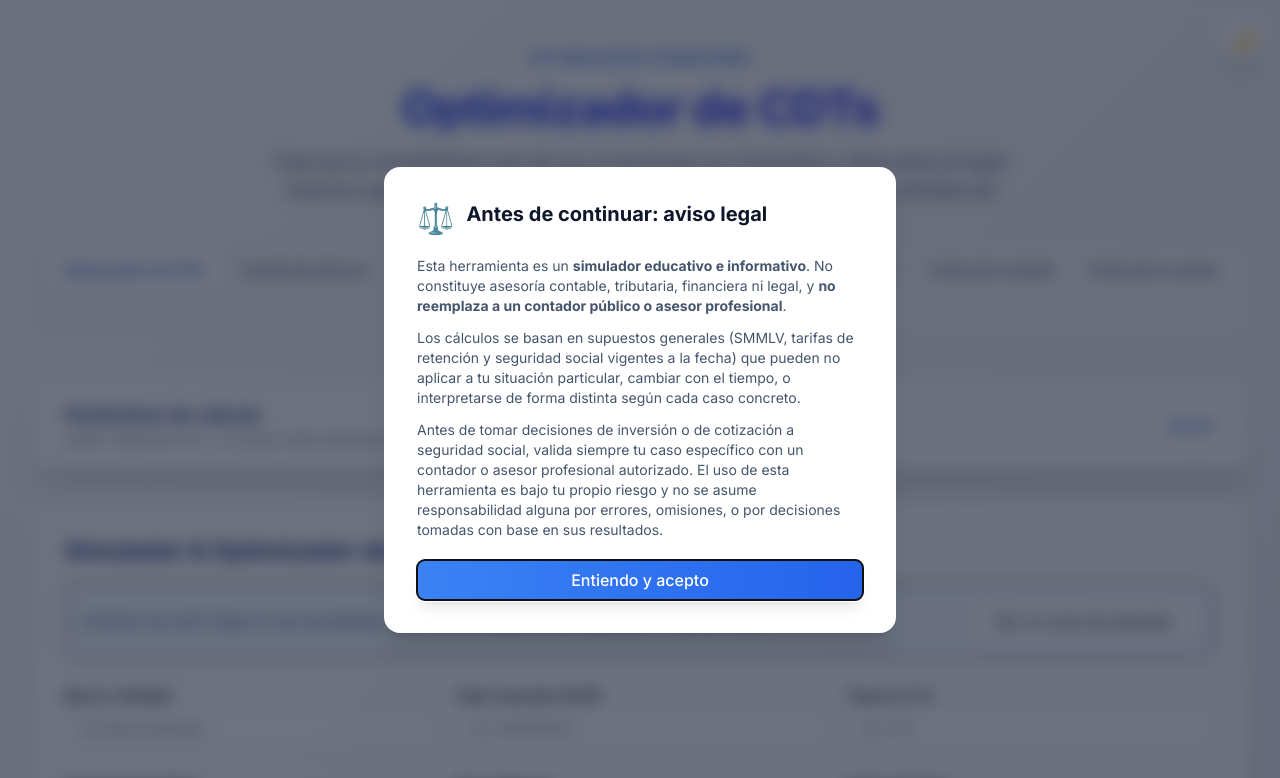
App › cambiar a la pestaña de cuenta de ahorros muestra ese comparador y oculta el simulador de CDTs
Click the button "Entiendo y acepto" at {"x": 640, "y": 580}, box [417,560,863,600]
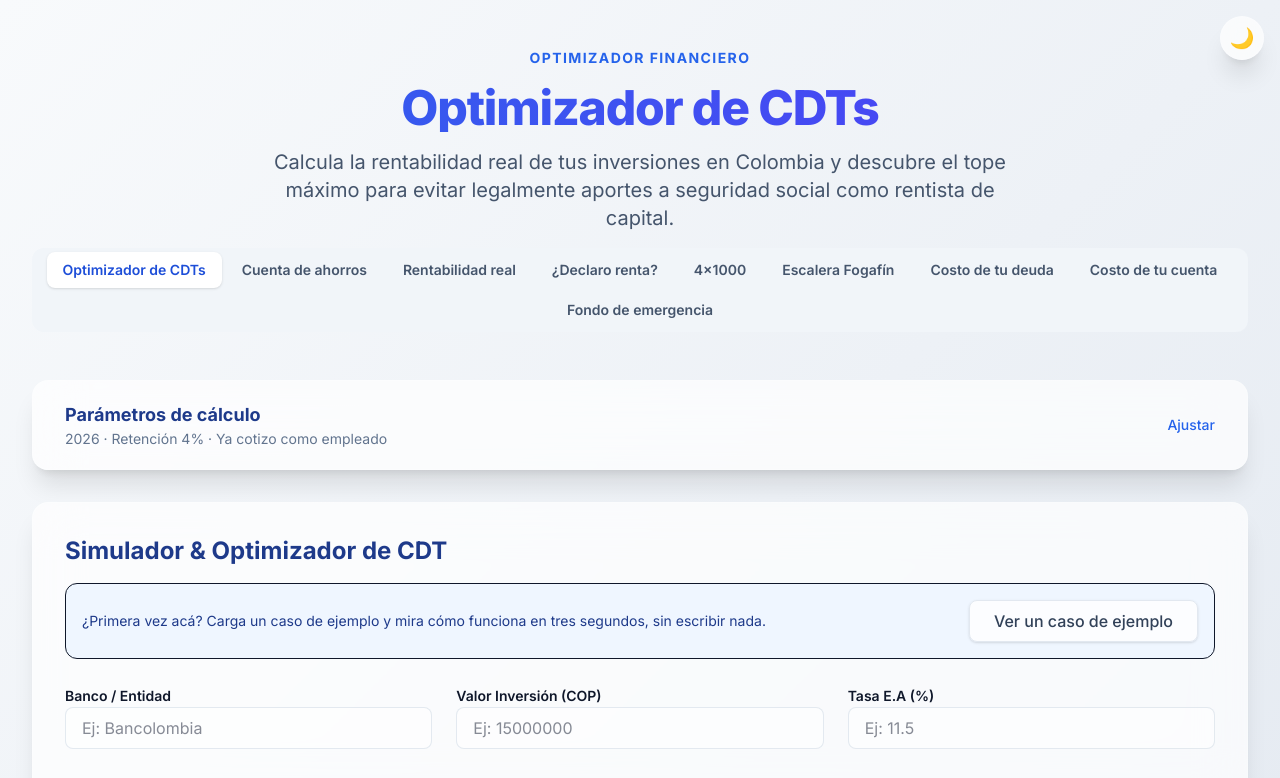
Click the link "Cuenta de ahorros" at {"x": 304, "y": 270}, box [242,261,367,278]
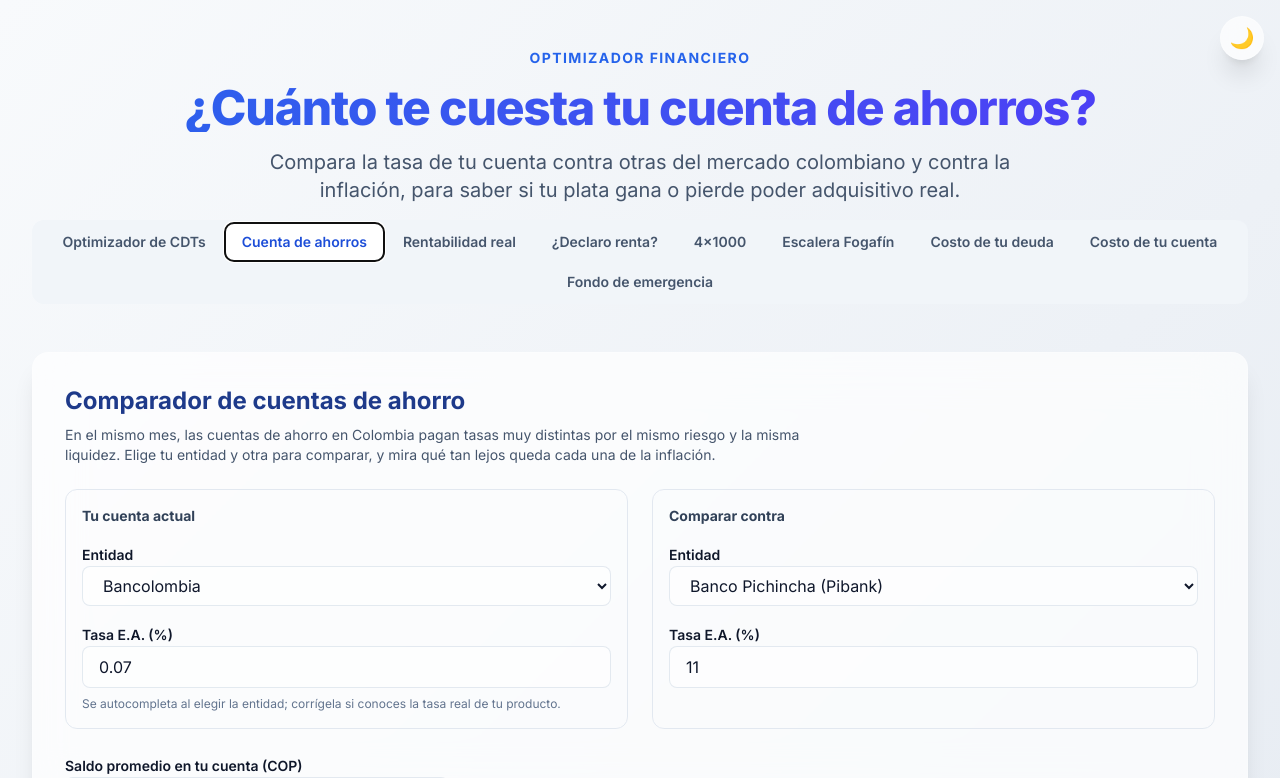
Now the heading "¿Cuánto te cuesta tu cuenta de ahorros?" is shown, box [32,84,1248,132]
Now the heading "Simulador & Optimizador de CDT" is gone
